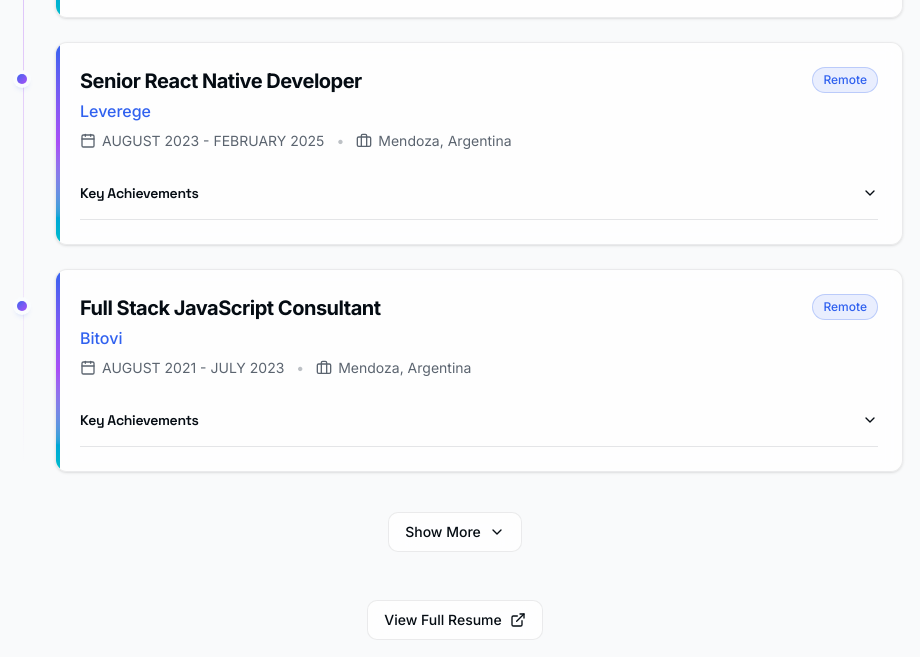
Test: Experience › toggles between show all and show recent states
(page scrolled)
# Click to show all
Click the button "Show More": (455, 532) [388, 512, 522, 552]
(page scrolled)
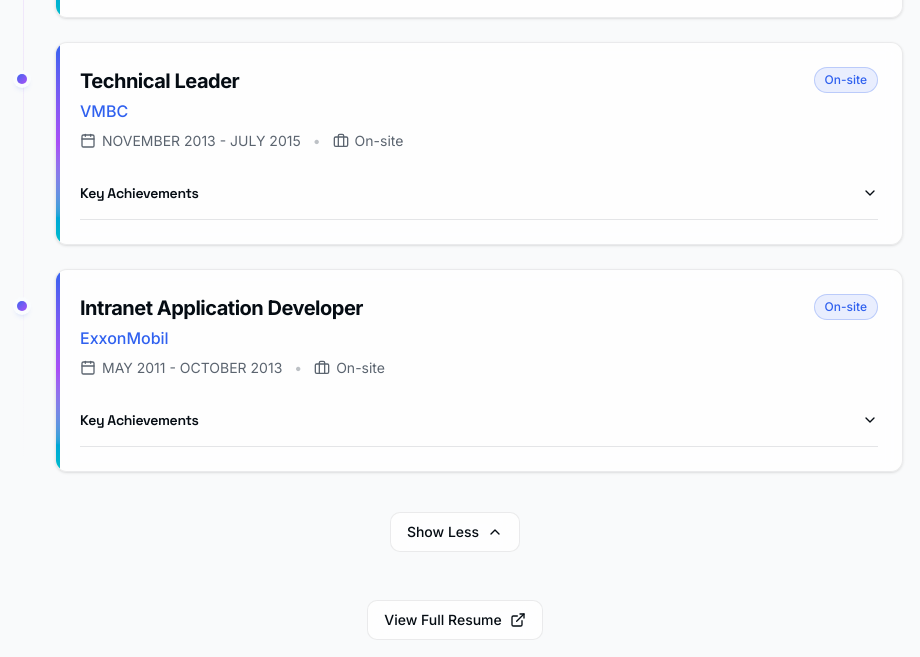
Result: the button "Show Less" is shown
# Click again to show recent
Click the button "Show Less": (455, 532) [390, 512, 520, 552]
(page scrolled)
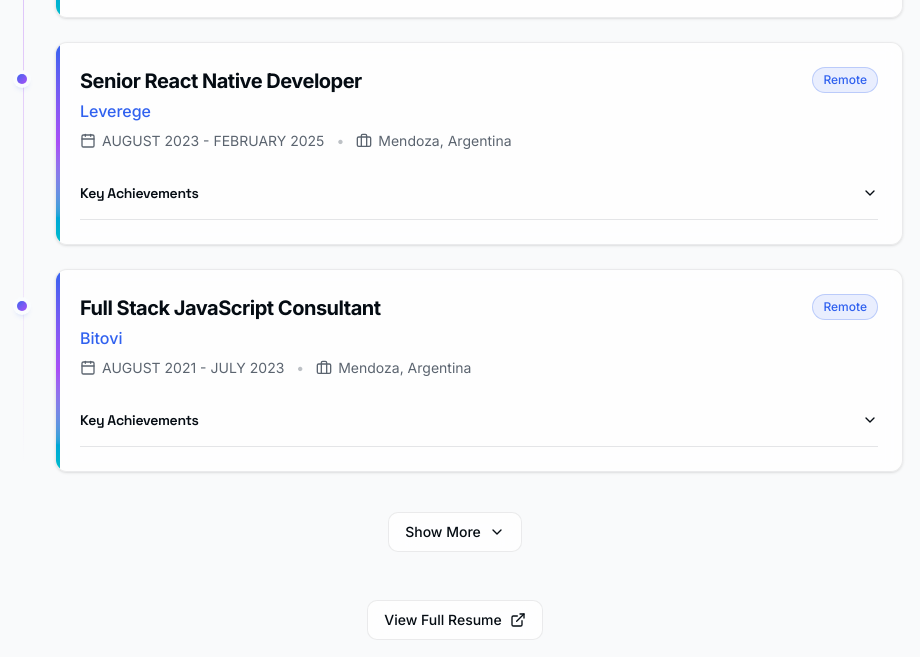
Result: the button "Show More" is shown at [388, 512, 522, 552]
